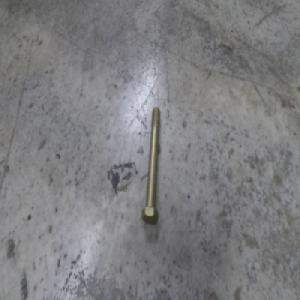Bolt: (140, 106, 159, 226)
